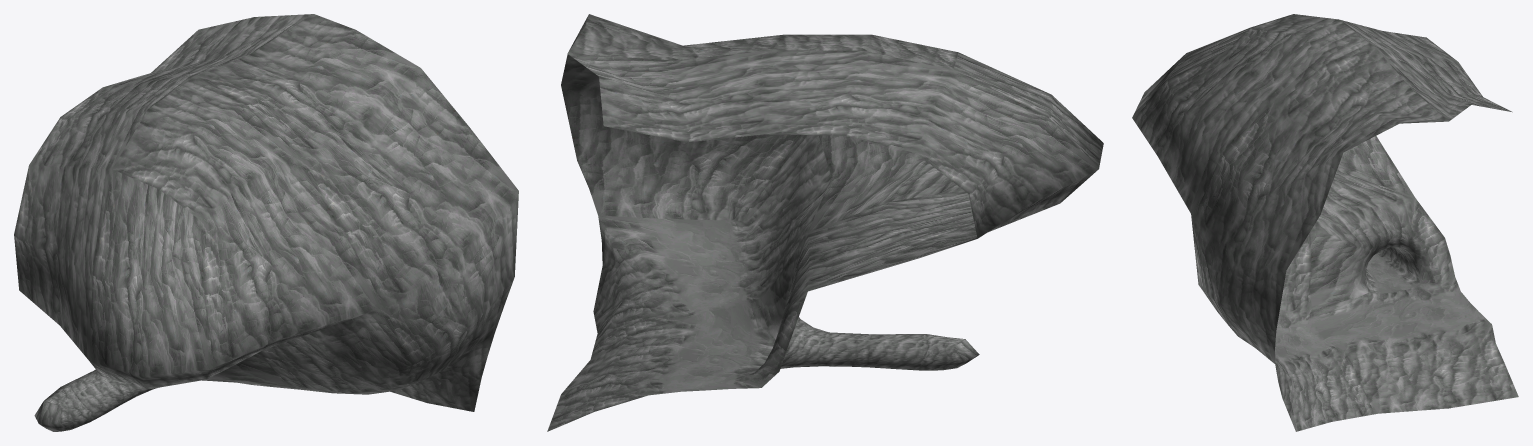
Rendered from SWORDLIGHT20_PS-AREA05_01.fbx.
3 renders of one model, left to right at view 1: azimuth 30°, elevation 25°; view 2: azimuth 150°, elevation 25°; view 3: azimuth 270°, elevation 25°, orthographic. The views are drawn at different scales.
Visible parts, largest first — view 1: SWORDLIGHT20_PS-AREA05_01; view 2: SWORDLIGHT20_PS-AREA05_01; view 3: SWORDLIGHT20_PS-AREA05_01.
Boxes of the visible parts, left/top/right/bottom form: SWORDLIGHT20_PS-AREA05_01: left=14, top=14, right=518, bottom=431; SWORDLIGHT20_PS-AREA05_01: left=547, top=14, right=1103, bottom=431; SWORDLIGHT20_PS-AREA05_01: left=1132, top=14, right=1518, bottom=431.
Bounding box in the file's own units: 221744 × 155483 × 185886.
2 materials, 2 textured.
